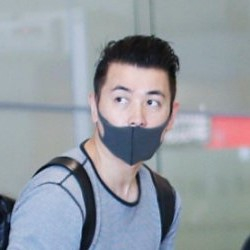mask: (92, 108, 170, 168)
